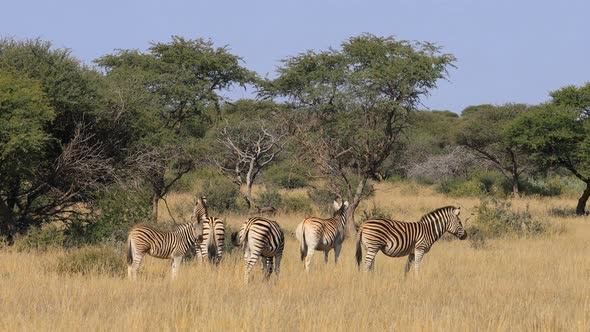zebra: (411, 238, 524, 311), (163, 246, 250, 312), (321, 232, 380, 298), (259, 249, 314, 317)
